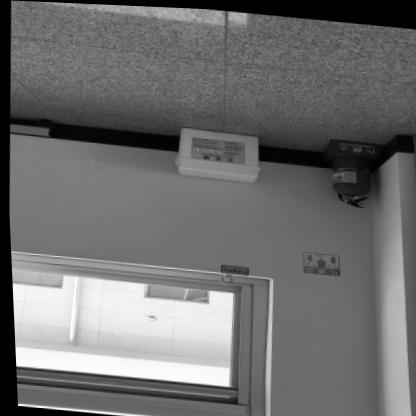DDL: (172, 124, 263, 181)
